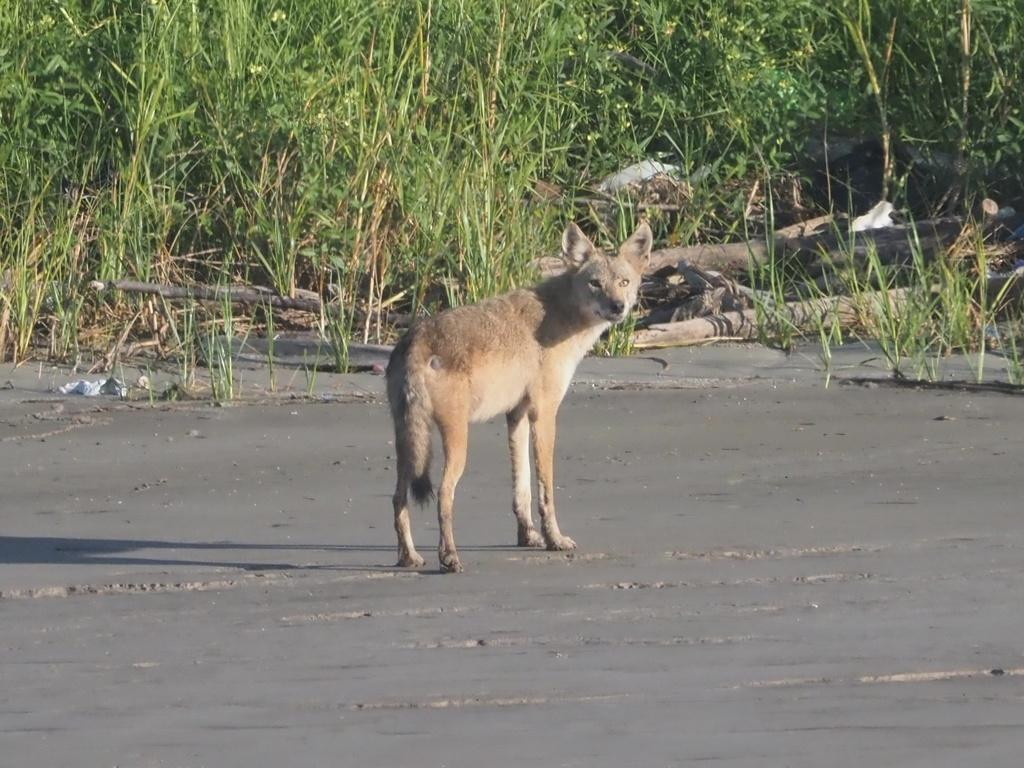Coyote: (381, 210, 658, 576)
